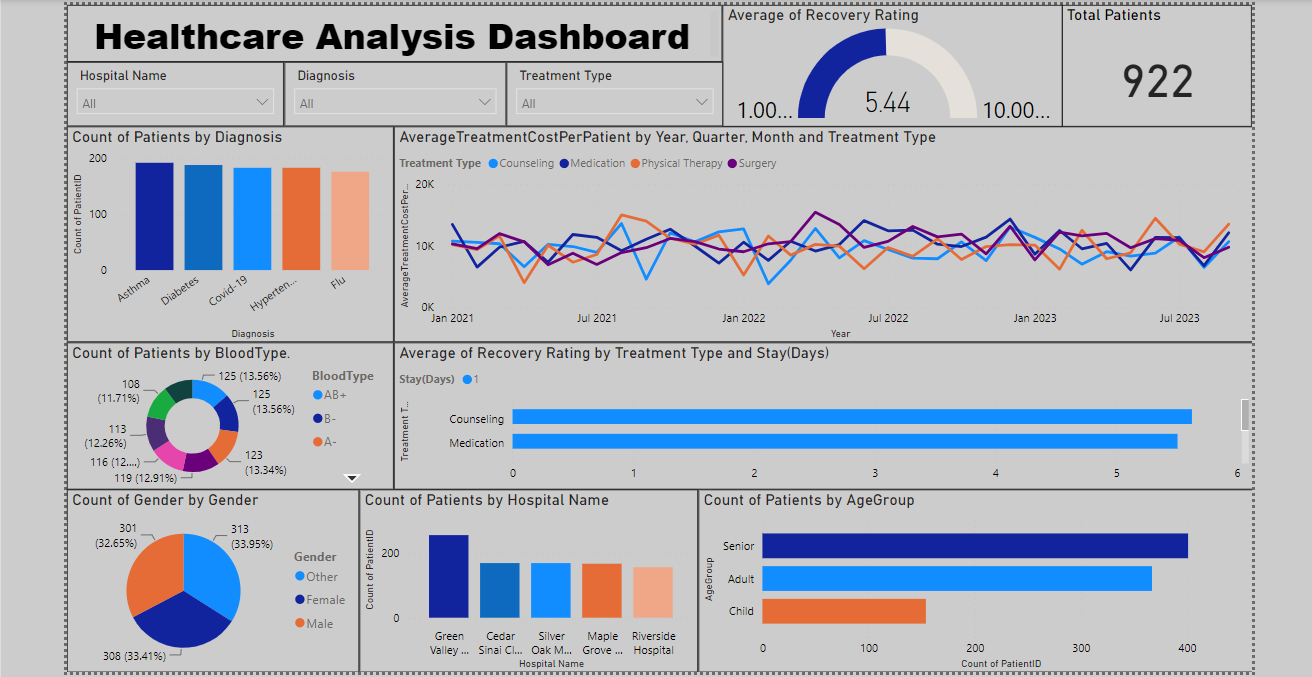

The dashboard page shown, as its layout file describes it:
{"tool":"powerbi","page":{"name":"Dashboard","canvas":[1280,720],"ordinal":0},"visuals":[{"type":"card","title":"Total Patients","fields":{"Values":["CountNonNull(Merged_.PatientID)"]},"box":[1074.3,0,205.5,131.1],"z":0},{"type":"clusteredBarChart","title":"Count of Patients by AgeGroup","fields":{"Y":["CountNonNull(Merged_.PatientID)"],"Category":["Merged_.AgeGroup"]},"box":[681.2,522.6,598.7,197.4],"z":1000},{"type":"pieChart","fields":{"Category":["Merged_.Gender"],"Y":["CountNonNull(Merged_.Gender)"]},"box":[0,522.6,315.5,197.4],"z":2000},{"type":"donutChart","title":"Count of Patients by BloodType.","fields":{"Category":["Merged_.BloodType"],"Y":["CountNonNull(Merged_.BloodType)"]},"box":[0,364,352.7,158.6],"z":3000},{"type":"clusteredColumnChart","title":"Count of Patients by Diagnosis","fields":{"Category":["Merged_.Diagnosis"],"Y":["CountNonNull(Merged_.PatientID)"]},"box":[0,131.1,352.7,233],"z":4000},{"type":"lineChart","fields":{"Y":["Merged_.AverageTreatmentCostPerPatient"],"Category":["Merged_.DischargeDate.Variation.Date Hierarchy.Year","Merged_.DischargeDate.Variation.Date Hierarchy.Quarter","Merged_.DischargeDate.Variation.Date Hierarchy.Month"],"Series":["Merged_.Treatment Type"]},"box":[352.7,131.1,927.1,233],"z":5000},{"type":"slicer","title":"Treatment Type","fields":{"Values":["Merged_.Treatment Type"]},"box":[474.1,61.5,234,69.6],"z":6000},{"type":"gauge","fields":{"Y":["Avg(Merged_.Recovery Rating)"]},"box":[707.1,0,367.3,131.1],"z":7000},{"type":"slicer","fields":{"Values":["Merged_.Diagnosis"]},"box":[234.6,61.5,239.5,69.6],"z":8000},{"type":"slicer","fields":{"Values":["Merged_.Hospital Name"]},"box":[0,61.5,234,69.6],"z":9000},{"type":"clusteredColumnChart","title":"Count of Patients by Hospital Name","fields":{"Category":["Merged_.Hospital Name"],"Y":["CountNonNull(Merged_.PatientID)"]},"box":[315.5,522.6,365.7,197.4],"z":10000},{"type":"clusteredBarChart","fields":{"Category":["Merged_.Treatment Type"],"Series":["Merged_.Stay(Days)"],"Y":["Avg(Merged_.Recovery Rating)"]},"box":[352.7,364,927.1,158.6],"z":11000},{"type":"textbox","box":[0,0,707.1,61.5],"z":12000}]}

Visuals, with their boxes in screenshot pixels (x1, y1, x2, y2):
"Total Patients" card: [x1=1057, y1=3, x2=1247, y2=125]
"Count of Patients by AgeGroup" clusteredBarChart: [x1=693, y1=488, x2=1247, y2=671]
pieChart - Merged_.Gender x CountNonNull(Merged_.Gender): [x1=62, y1=488, x2=354, y2=671]
"Count of Patients by BloodType." donutChart: [x1=62, y1=341, x2=388, y2=488]
"Count of Patients by Diagnosis" clusteredColumnChart: [x1=62, y1=125, x2=388, y2=341]
lineChart - Merged_.AverageTreatmentCostPerPatient x Merged_.DischargeDate.Variation.Date Hierarchy.Year: [x1=388, y1=125, x2=1247, y2=341]
"Treatment Type" slicer: [x1=501, y1=60, x2=718, y2=125]
gauge - Avg(Merged_.Recovery Rating): [x1=717, y1=3, x2=1057, y2=125]
slicer - Merged_.Diagnosis: [x1=279, y1=60, x2=501, y2=125]
slicer - Merged_.Hospital Name: [x1=62, y1=60, x2=278, y2=125]
"Count of Patients by Hospital Name" clusteredColumnChart: [x1=354, y1=488, x2=693, y2=671]
clusteredBarChart - Merged_.Treatment Type x Merged_.Stay(Days): [x1=388, y1=341, x2=1247, y2=488]
textbox: [x1=62, y1=3, x2=717, y2=60]
